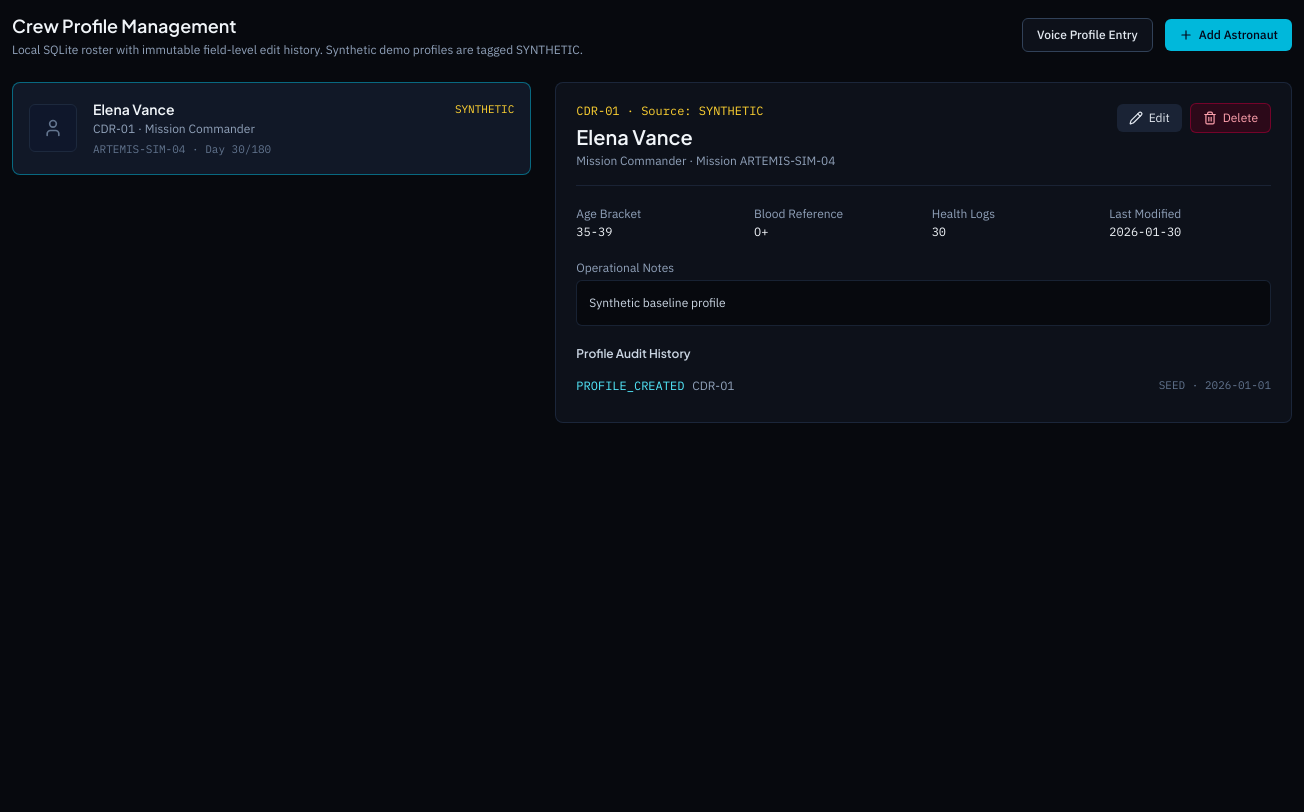
Aegis Orbital Health — Frontend Component Tests › renders ProfilesPage and toggles Add Astronaut modal cleanly
Expected: the heading "Profile Audit History" is shown, [576,346,691,360]
What coordinates should you click on to do the following:
click the button "Add Astronaut"
I would click on:
 (1228, 35)
Its box is [1165,19,1292,51].
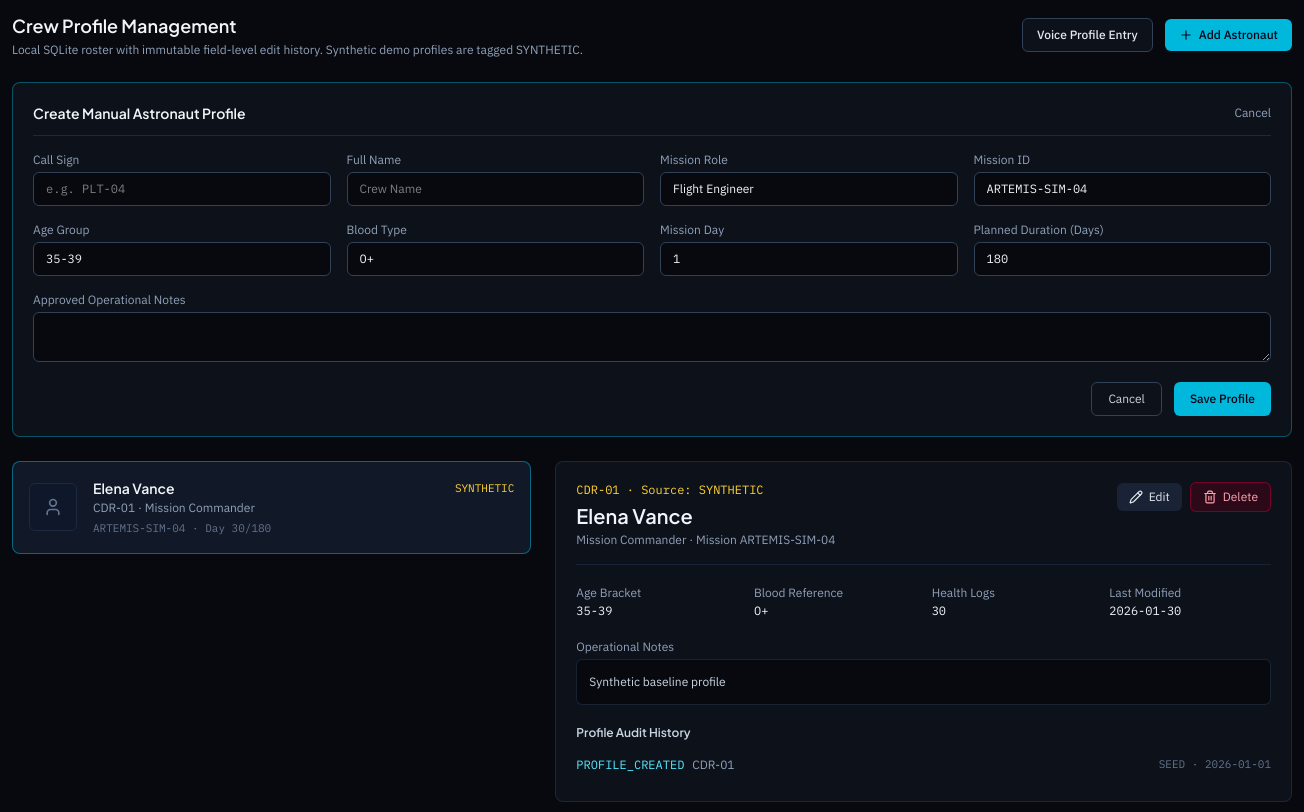
Expected: the heading "Create Manual Astronaut Profile" is shown, [33,103,246,123]
